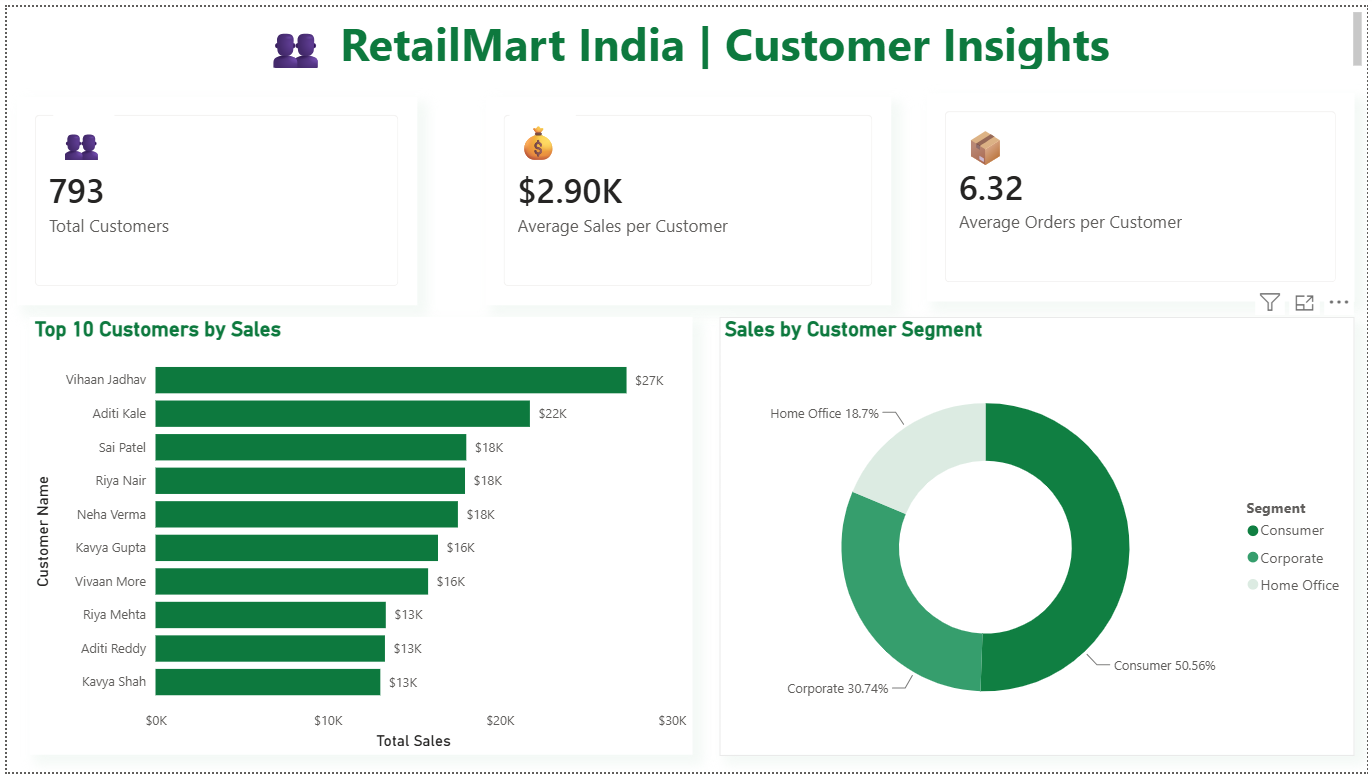

What the dashboard file says about the page in this screenshot:
{"tool":"powerbi","page":{"name":"Customer Insights","canvas":[1280,720],"ordinal":2},"visuals":[{"type":"textbox","box":[9.8,0,1270.5,63.6],"z":0},{"type":"cardVisual","fields":{"Data":["Measures (2).Total Customers"]},"box":[9.8,84.4,376.6,195.7],"z":1000},{"type":"textbox","box":[44,100.3,57.5,52.6],"z":2000},{"type":"textbox","box":[126,303.3,223.8,74.6],"z":3000},{"type":"cardVisual","fields":{"Data":["Measures (2).Average Sales per Customer"]},"box":[450,84.4,381.5,195.7],"z":4000},{"type":"textbox","box":[473.2,100.3,62.4,57.5],"z":5000},{"type":"textbox","box":[929.1,109.5,61.1,52.6],"z":6000},{"type":"cardVisual","fields":{"Data":["Measures (2).Average Orders per Customer"]},"box":[865.8,80.7,402.3,195.7],"z":7000},{"type":"textbox","box":[893.9,105.2,66,52.6],"z":8000},{"type":"clusteredBarChart","title":"Top 10 Customers by Sales","fields":{"Y":["Measures (2).Total Sales"],"Category":["orders.Customer Name"]},"box":[20.8,292.3,623.6,412.1],"z":9000},{"type":"donutChart","title":"Sales by Customer Segment","fields":{"Y":["Measures (2).Total Sales"],"Category":["orders.Segment"]},"box":[670.1,292.3,598,412.1],"z":10000}]}

Visuals, with their boxes in screenshot pixels (x1, y1, x2, y2), scaled from the page's 1280x720 canvas onto the 1372x777 screenshot:
textbox: select_region(11, 0, 1371, 69)
cardVisual - Measures (2).Total Customers: select_region(11, 91, 414, 302)
textbox: select_region(47, 108, 109, 165)
textbox: select_region(135, 327, 375, 408)
cardVisual - Measures (2).Average Sales per Customer: select_region(482, 91, 891, 302)
textbox: select_region(507, 108, 574, 170)
textbox: select_region(996, 118, 1061, 175)
cardVisual - Measures (2).Average Orders per Customer: select_region(928, 87, 1359, 298)
textbox: select_region(958, 114, 1029, 170)
"Top 10 Customers by Sales" clusteredBarChart: select_region(22, 315, 691, 760)
"Sales by Customer Segment" donutChart: select_region(718, 315, 1359, 760)
